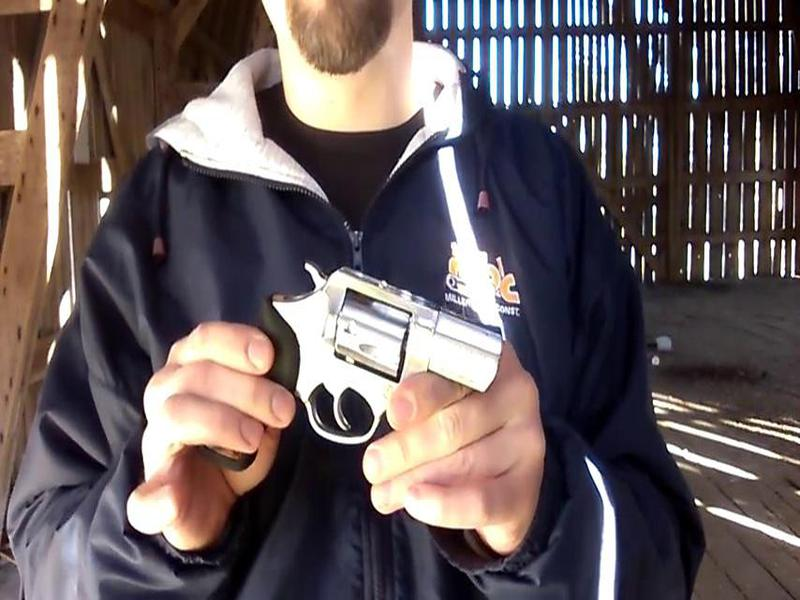Revolver: (241, 244, 515, 450)
